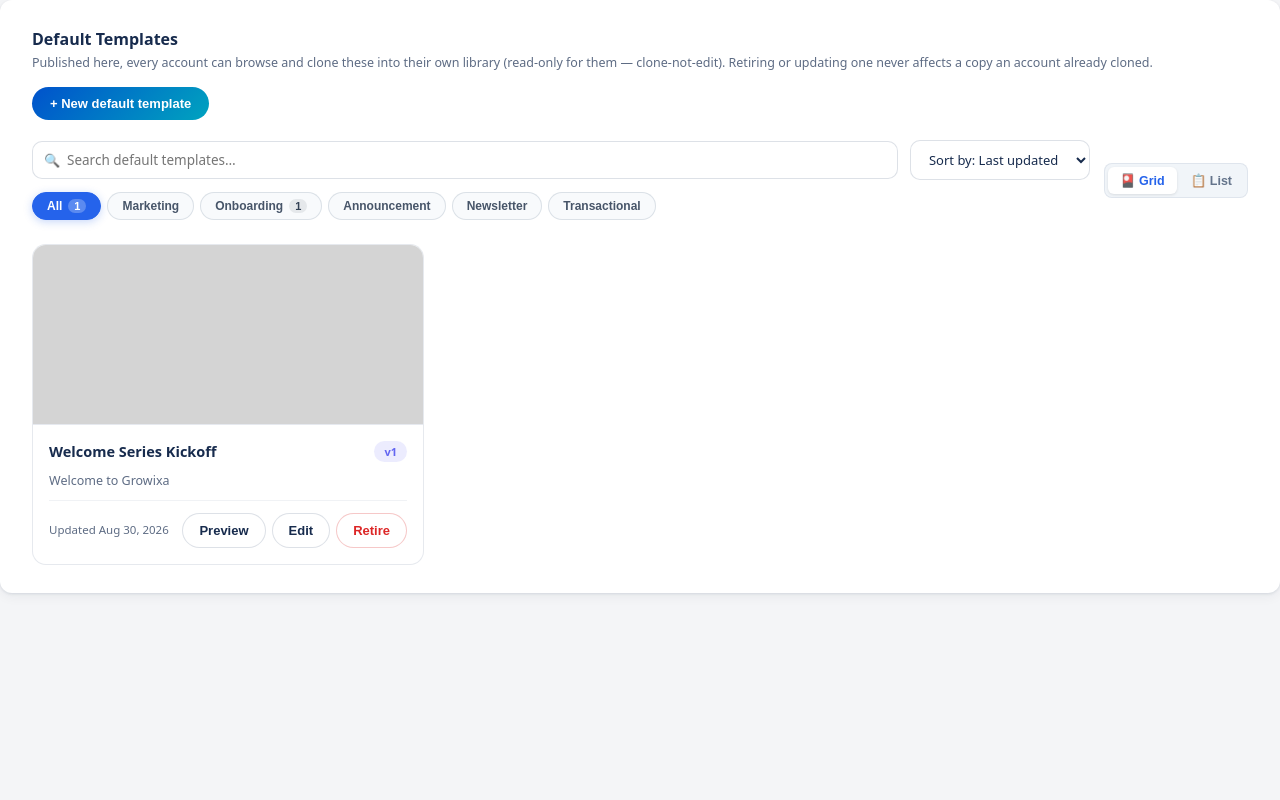
Test: PlatformTemplatesPage › retires a template after confirmation
The image size is (1280, 800).
Expected: the heading "Welcome Series Kickoff" is shown, [49,441,216,461]
Click the button "Retire".
click(372, 530)  # box [336,512,407,548]
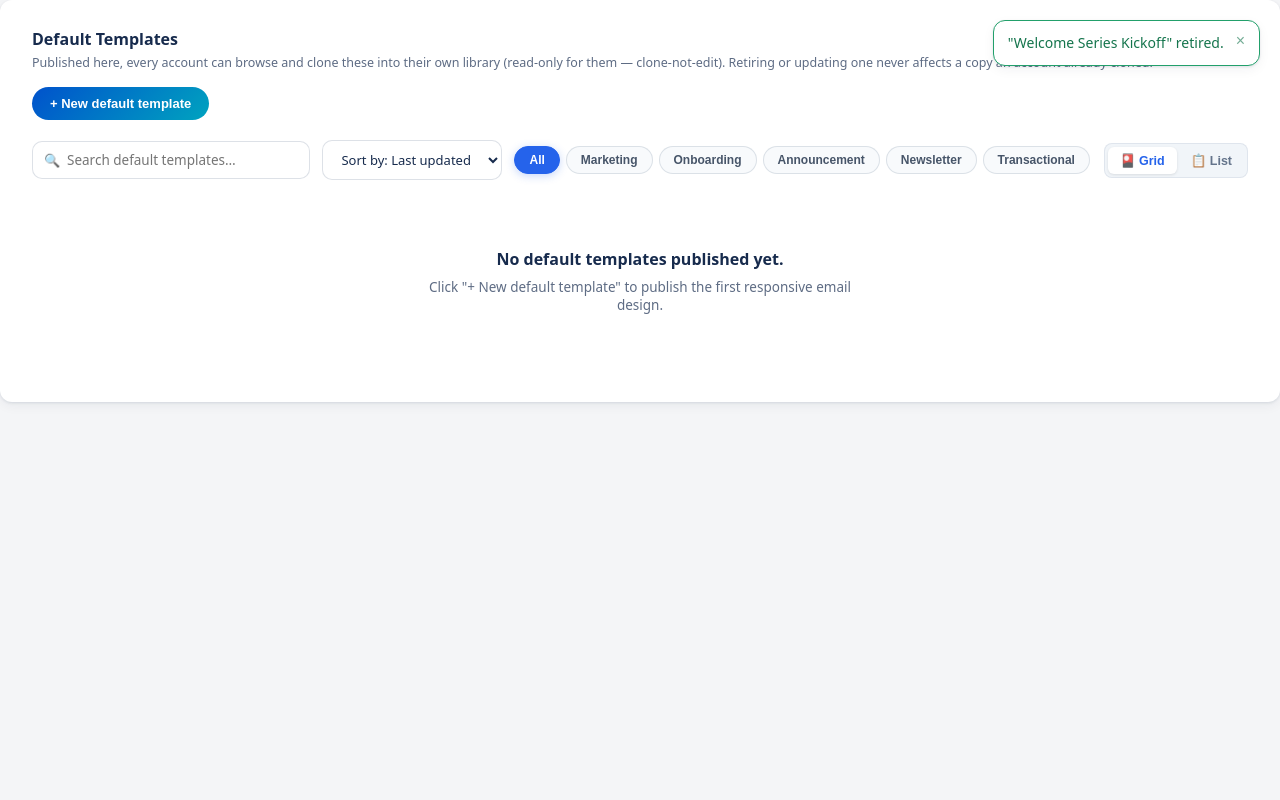
Expected: the text "\"Welcome Series Kickoff\" retired." is shown, [1008,33,1224,53]
